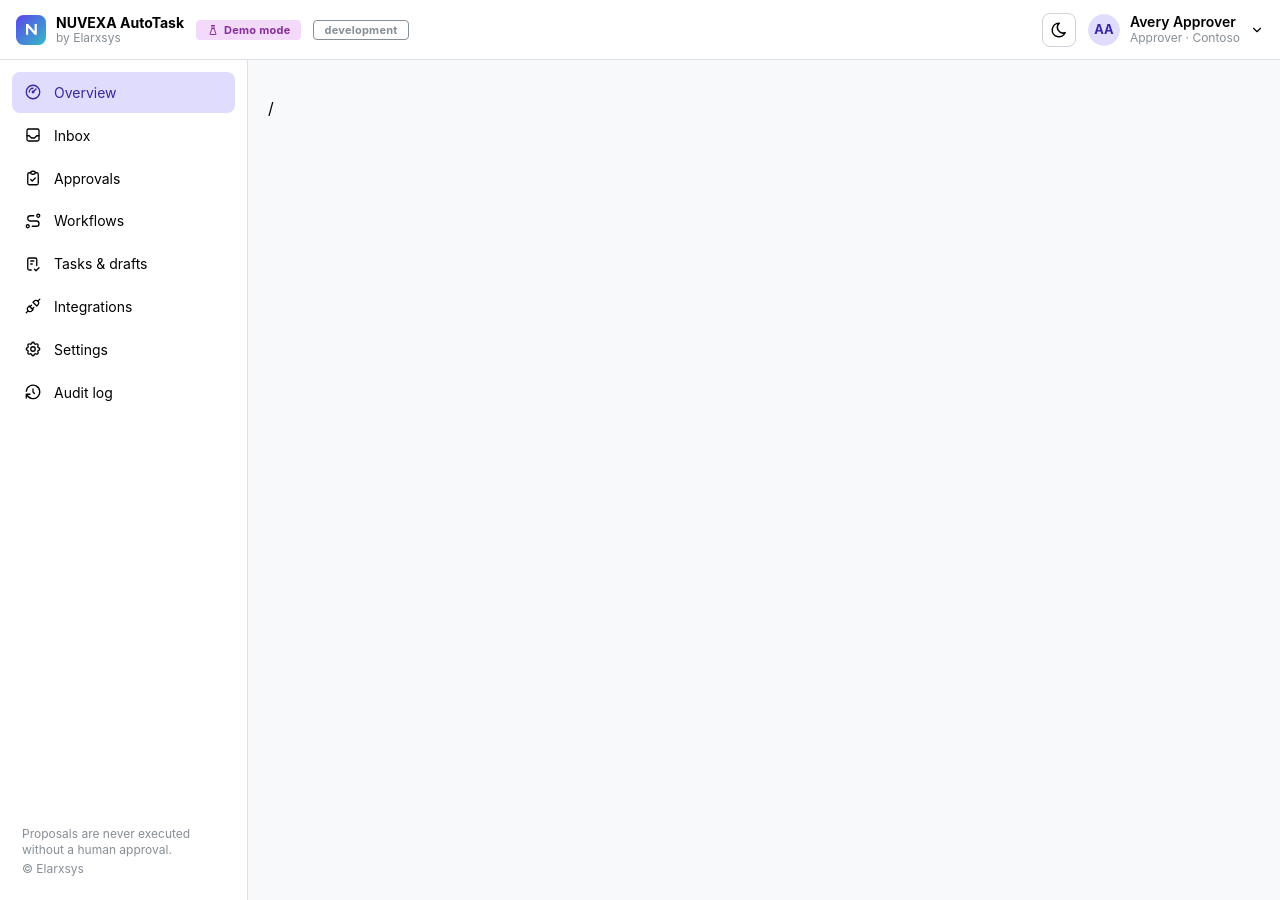
<AppLayout> navigation › navigates when a nav link is clicked and moves aria-current
Click the link "Workflows". click: (74, 221)
box: x1=24 y1=212 x2=124 y2=230
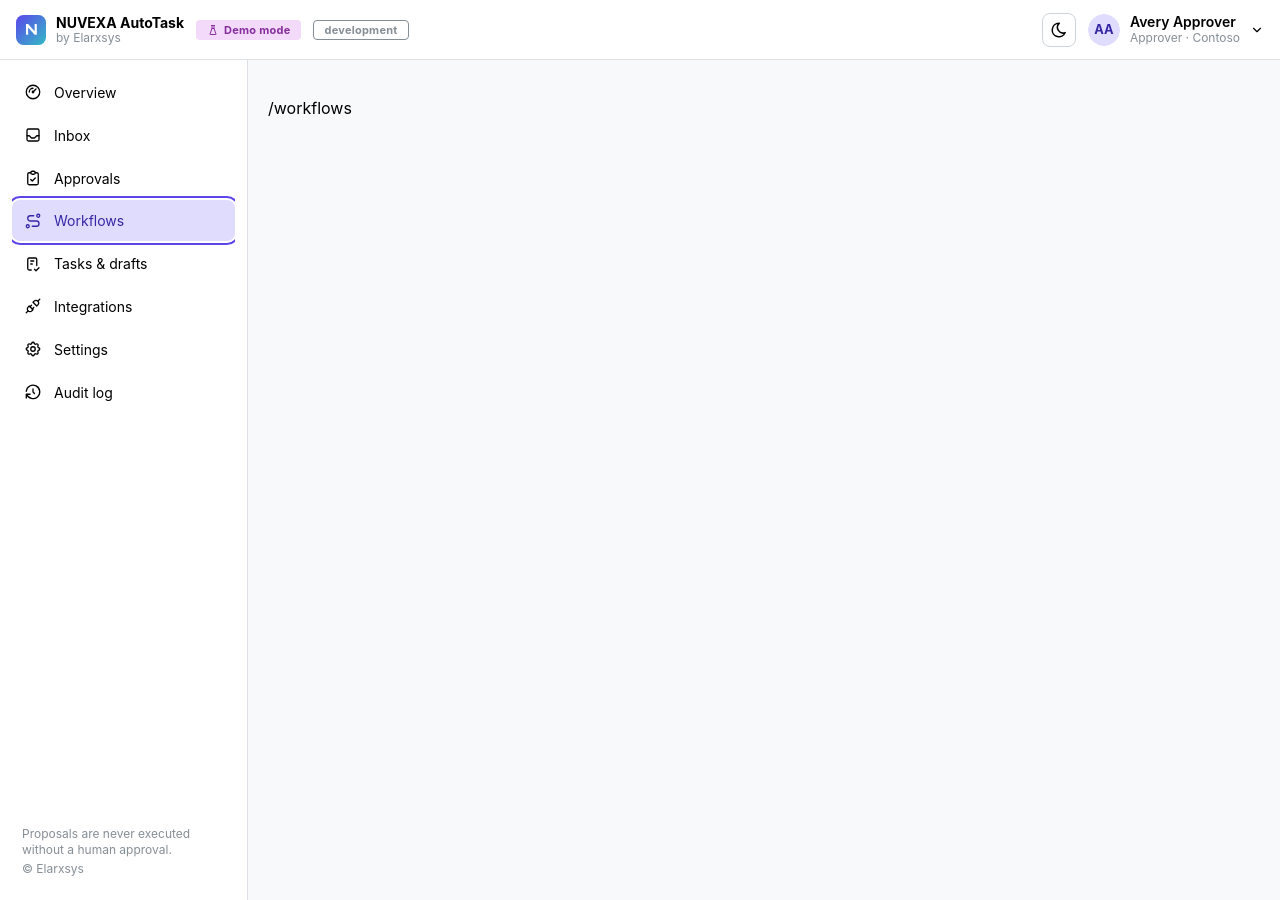
Expected: the text "/workflows" is shown, x1=268 y1=98 x2=352 y2=118
Expected: the text with test id "location" reads "/workflows", x1=268 y1=98 x2=352 y2=118
